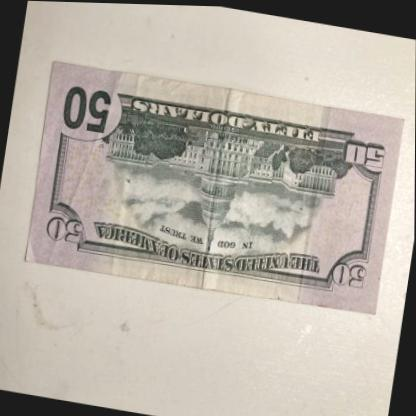fifty-back: (22, 57, 405, 319)
